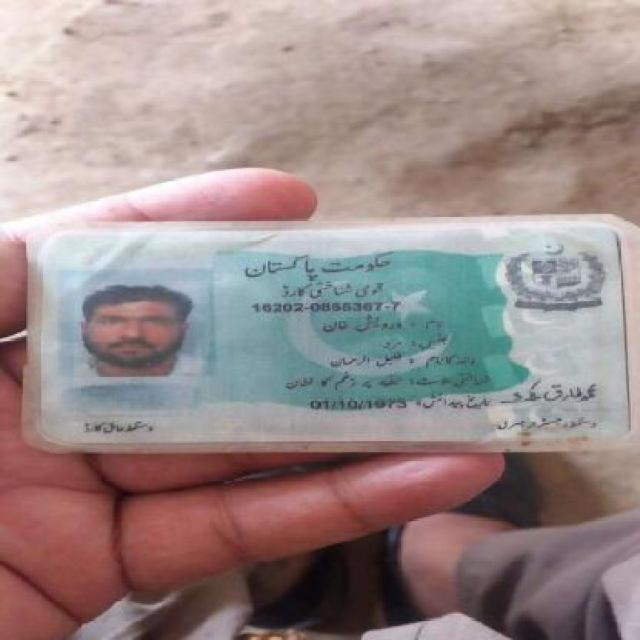Front: (20, 217, 622, 452)
